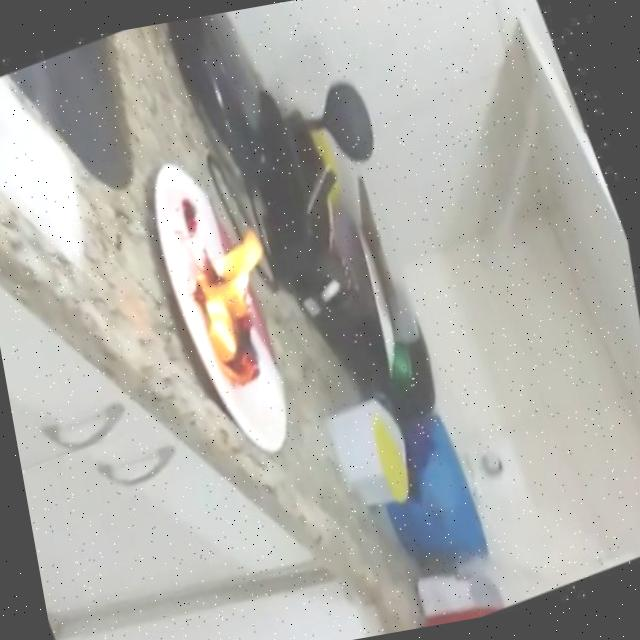fire: (167, 218, 319, 406)
